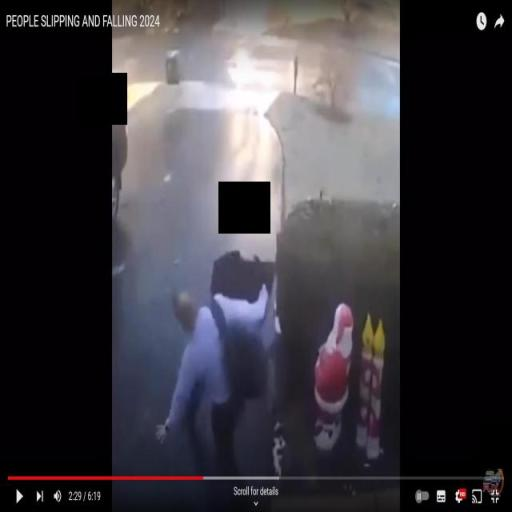Fall: (152, 278, 270, 512)
